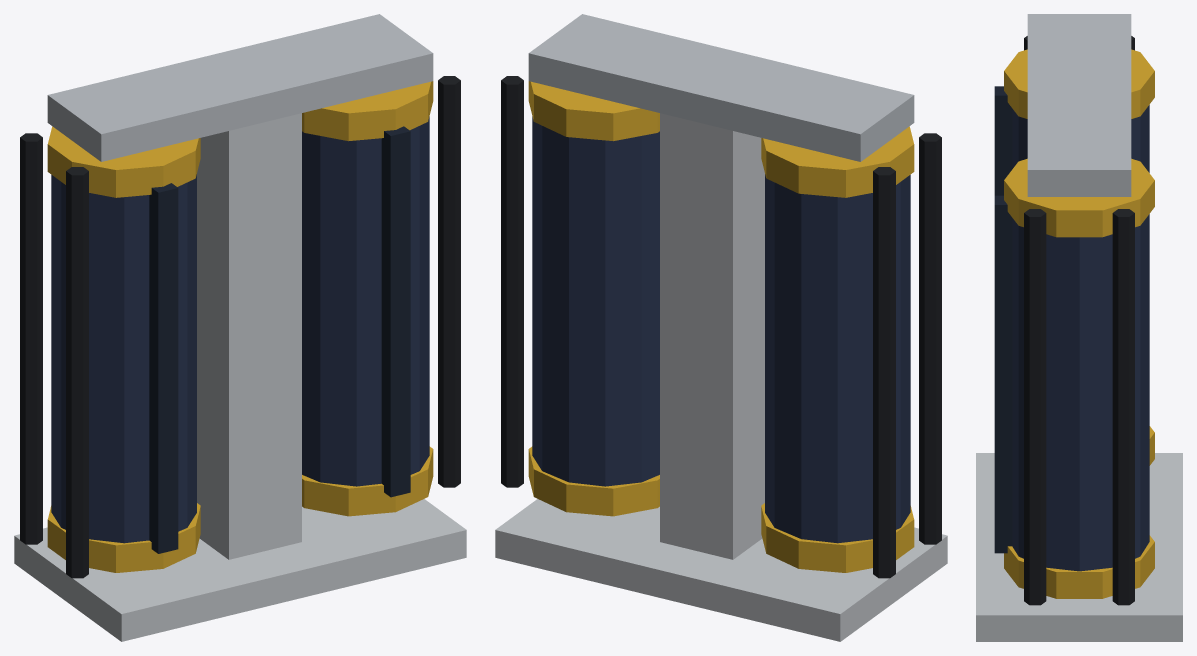
Rendered from power-rosa-solar.glb.
3 renders of one model, left to right at view 1: azimuth 30°, elevation 25°; view 2: azimuth 150°, elevation 25°; view 3: azimuth 270°, elevation 25°, orthographic. The views are drawn at different scales.
Parts seen in each view (by area): view 1: PowerRosaSolar_Aluminum, PowerRosaSolar_Pack, PowerRosaSolar_Steel, PowerRosaSolar_HullBlack, PowerRosaSolar_Visor, PowerRosaSolar_FoilGold; view 2: PowerRosaSolar_Pack, PowerRosaSolar_Aluminum, PowerRosaSolar_Steel, PowerRosaSolar_HullBlack, PowerRosaSolar_FoilGold; view 3: PowerRosaSolar_Pack, PowerRosaSolar_Steel, PowerRosaSolar_HullBlack, PowerRosaSolar_Aluminum, PowerRosaSolar_FoilGold, PowerRosaSolar_Visor.
Boxes of the visible parts, x1,y1,x2,y2 form: PowerRosaSolar_Aluminum: [14, 113, 466, 641]; PowerRosaSolar_Pack: [51, 116, 429, 543]; PowerRosaSolar_Steel: [47, 14, 433, 161]; PowerRosaSolar_HullBlack: [20, 76, 460, 578]; PowerRosaSolar_Visor: [149, 126, 410, 553]; PowerRosaSolar_FoilGold: [47, 81, 433, 572]; PowerRosaSolar_Pack: [532, 116, 910, 543]; PowerRosaSolar_Aluminum: [495, 113, 947, 641]; PowerRosaSolar_Steel: [528, 14, 914, 161]; PowerRosaSolar_HullBlack: [501, 76, 941, 578]; PowerRosaSolar_FoilGold: [528, 81, 914, 572]; PowerRosaSolar_Pack: [1012, 105, 1149, 571]; PowerRosaSolar_Steel: [1027, 14, 1131, 196]; PowerRosaSolar_HullBlack: [1024, 36, 1134, 605]; PowerRosaSolar_Aluminum: [976, 453, 1182, 641]; PowerRosaSolar_FoilGold: [1004, 49, 1154, 598]; PowerRosaSolar_Visor: [994, 86, 1012, 553].
Bounding box in the file's own units: 0.586 × 0.7 × 0.28.
